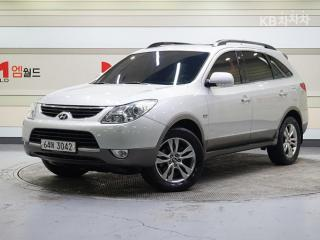0: (61, 143, 65, 151)
2: (68, 142, 74, 152)
3: (55, 141, 61, 150)
4: (64, 142, 69, 151), (47, 141, 51, 148)
6: (43, 141, 47, 148)
plate: (37, 136, 79, 159)
허: (51, 142, 56, 150)
